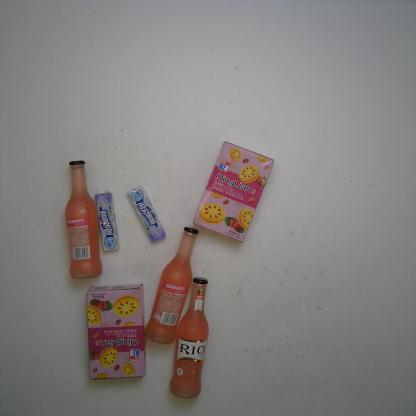Alcohol: (147, 228, 196, 344), (171, 277, 208, 400), (67, 160, 102, 278)
Candy: (128, 185, 165, 243), (94, 189, 120, 251)
Dessert: (195, 142, 276, 242), (86, 286, 147, 380)
